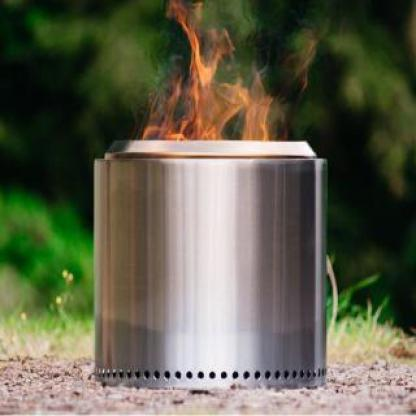fire: (138, 1, 318, 146)
